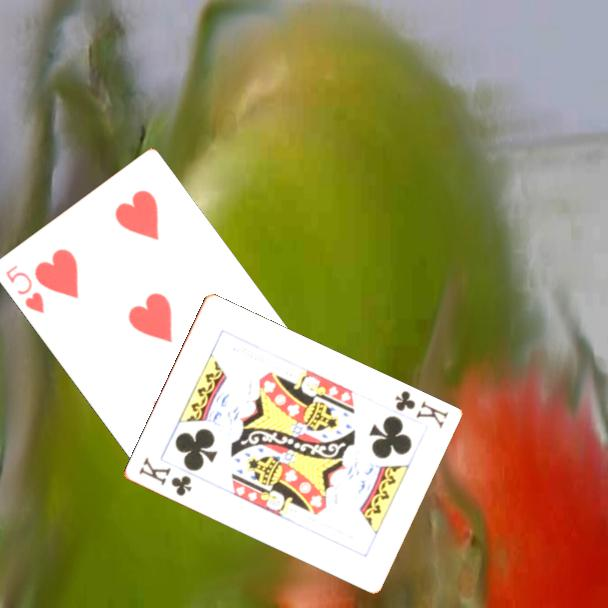c13: (391, 387, 451, 432), (135, 454, 194, 499)
h05: (2, 261, 47, 316)
